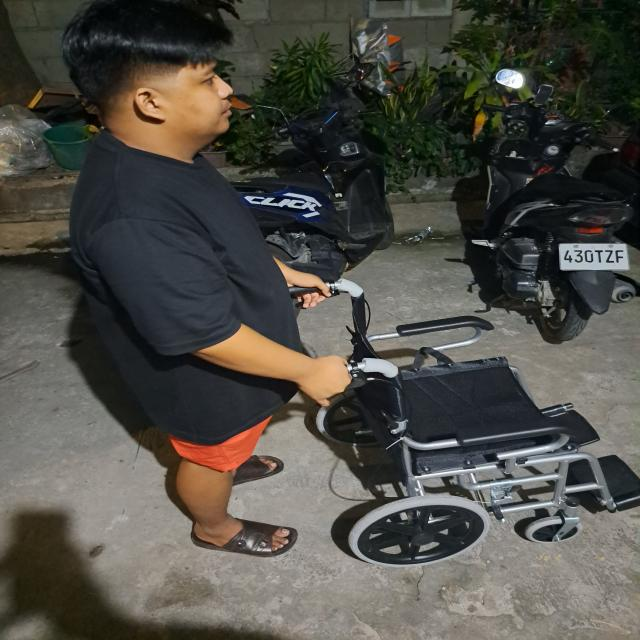wheelchairs: (281, 278, 640, 574)
